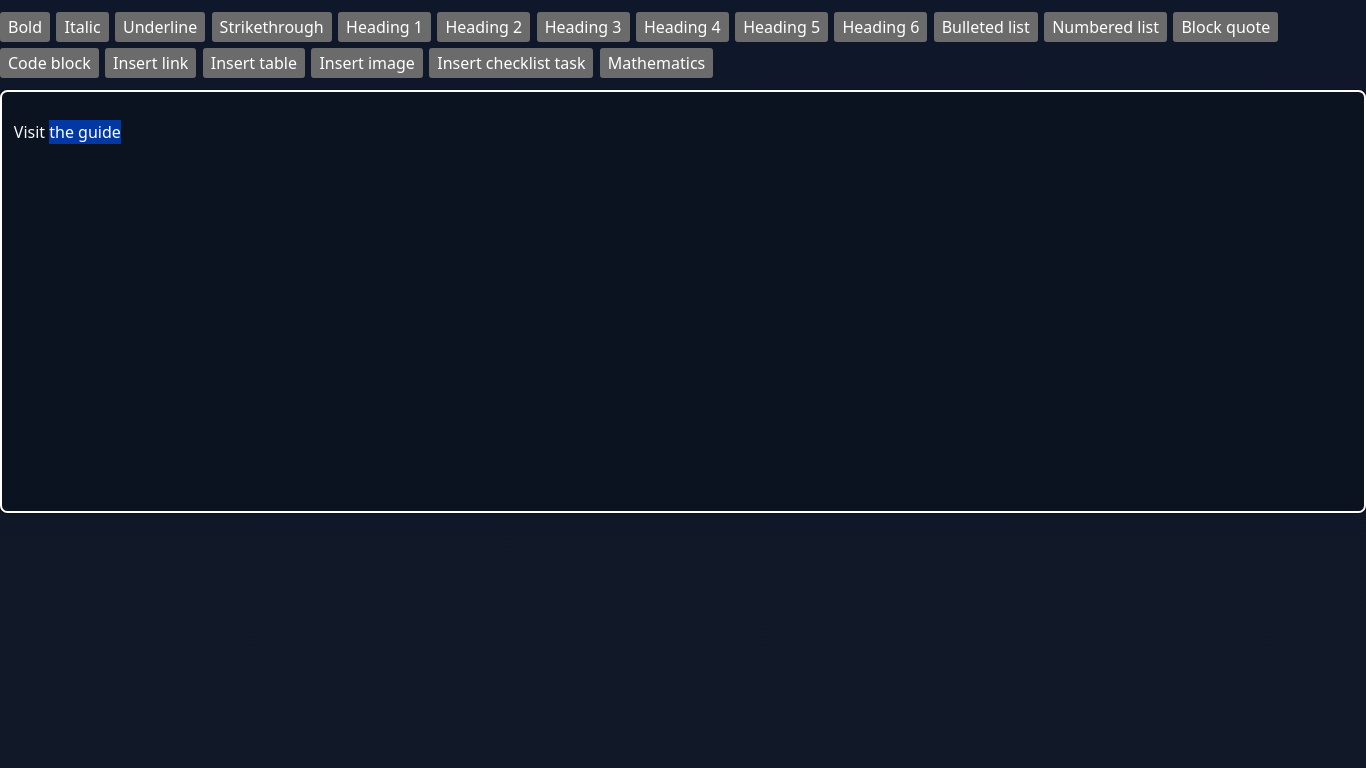
Test: Insert link in the rich-text editor › refuses an invalid address instead of inserting a link
The width and height of the screenshot is (1366, 768).
Click the button "Insert link". click: (151, 63)
box: [105,48,196,78]
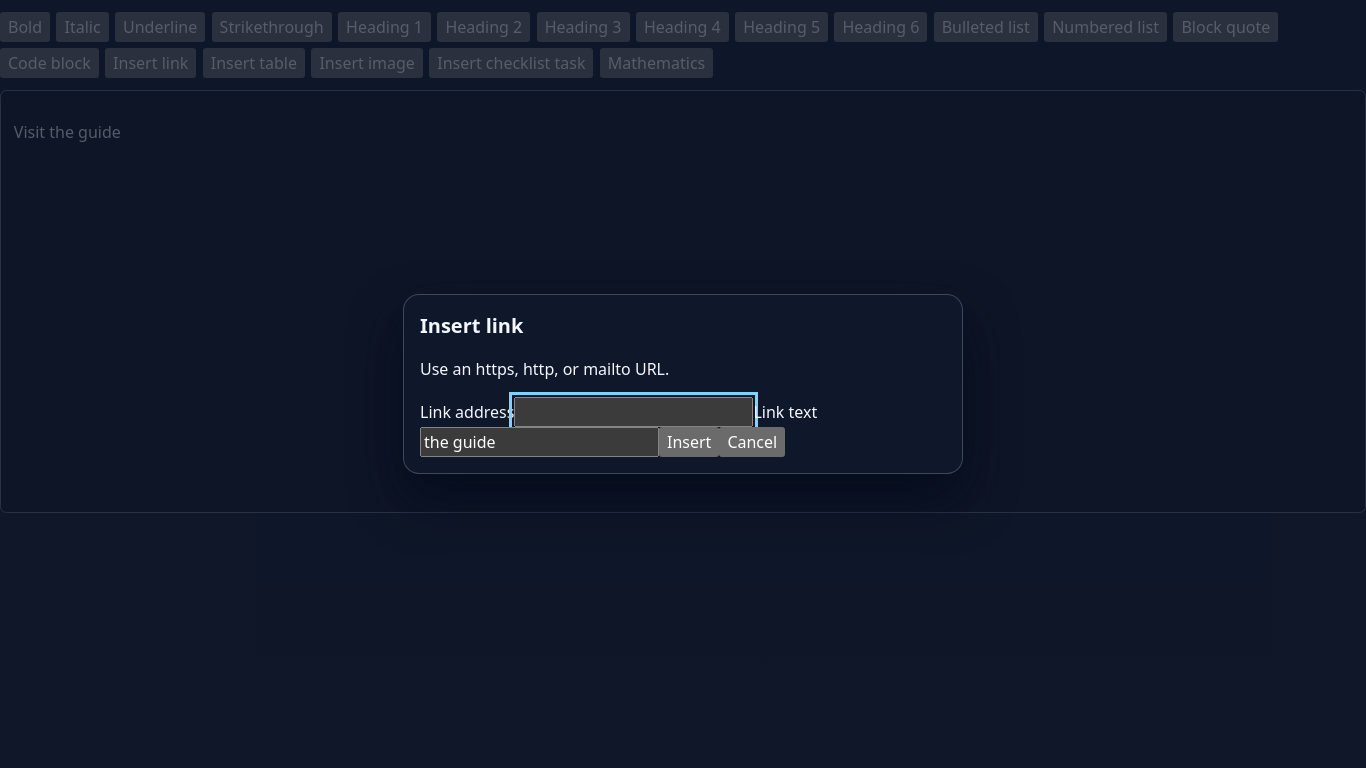
Expected: the dialog "Insert link" is shown, [403,294,963,474]
Type "javascript:alert(1)" into the field labelled "Link address". click: (634, 412)
box: [514,397,753,427]
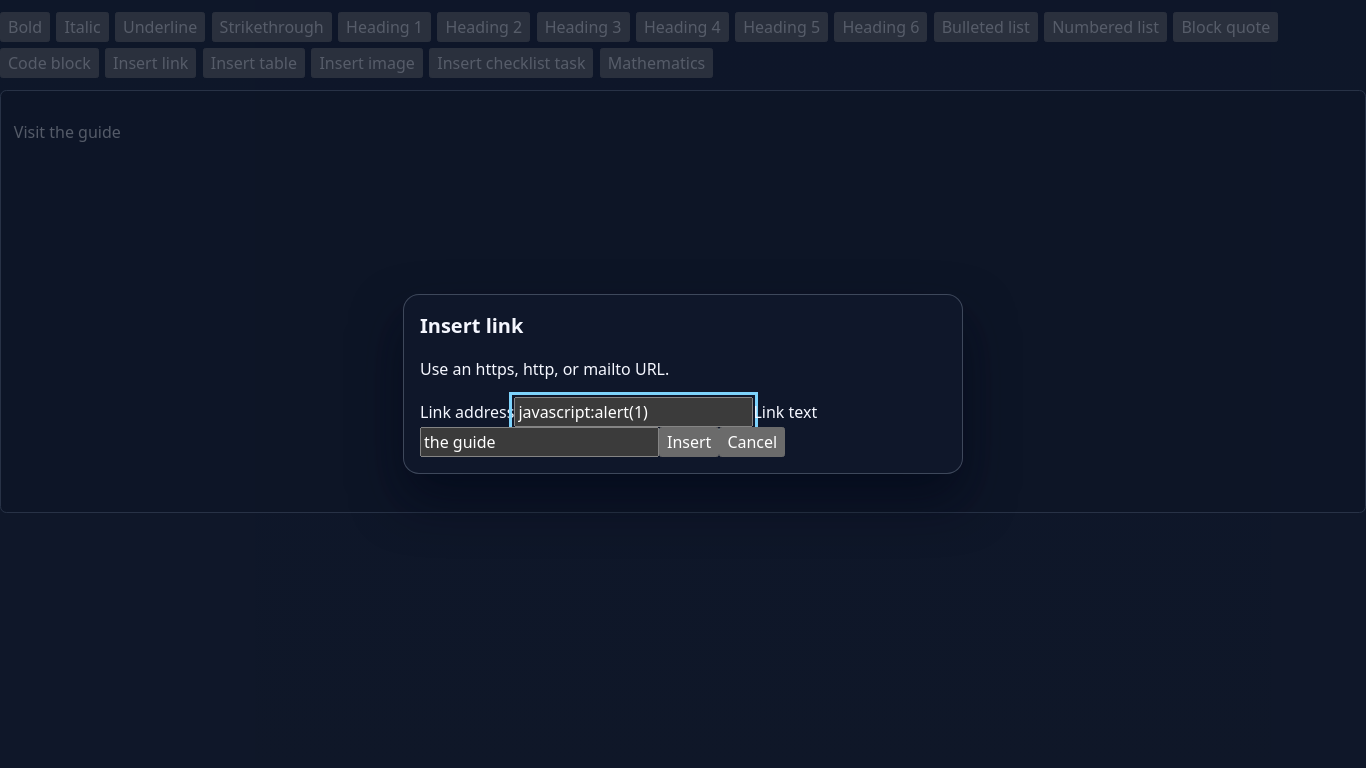
Click the button "Insert". click: (689, 442)
box: [659,427,719,457]
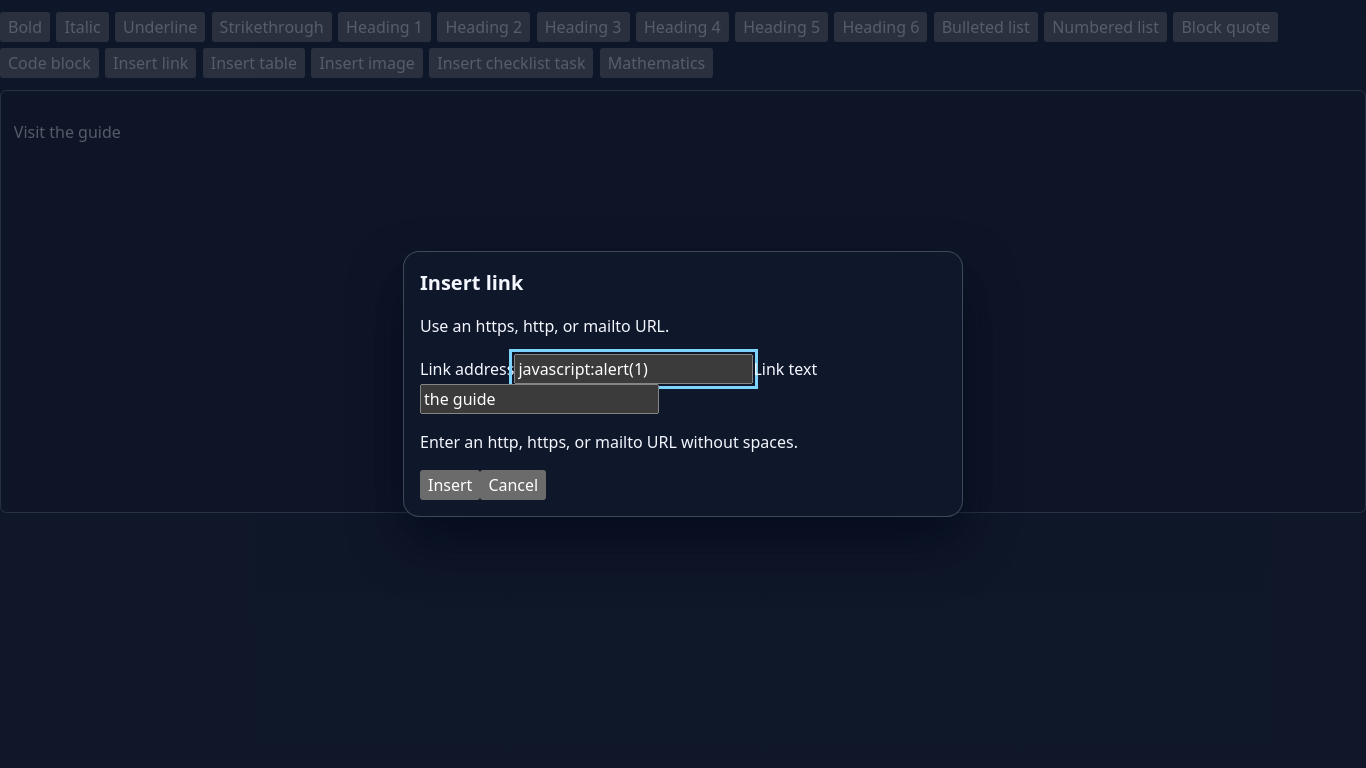
Expected: the dialog "Insert link" is shown, [403,251,963,517]
Expected: the message "Enter an http, https, or mailto URL without spaces." is shown, [420,431,798,453]
